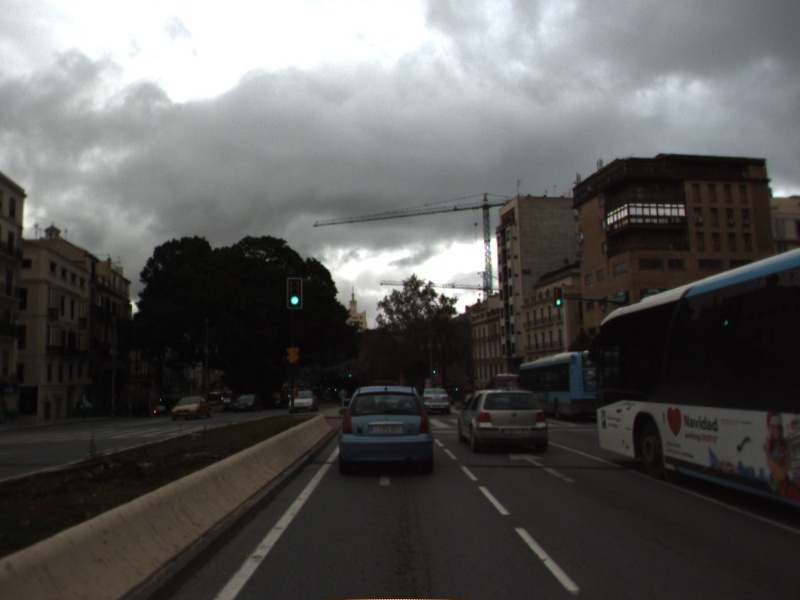STRAIGHT: (507, 451, 576, 485)
